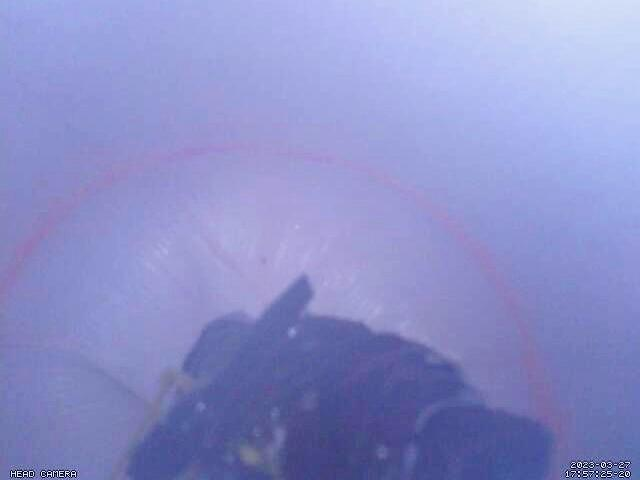head: (1, 140, 570, 480)
